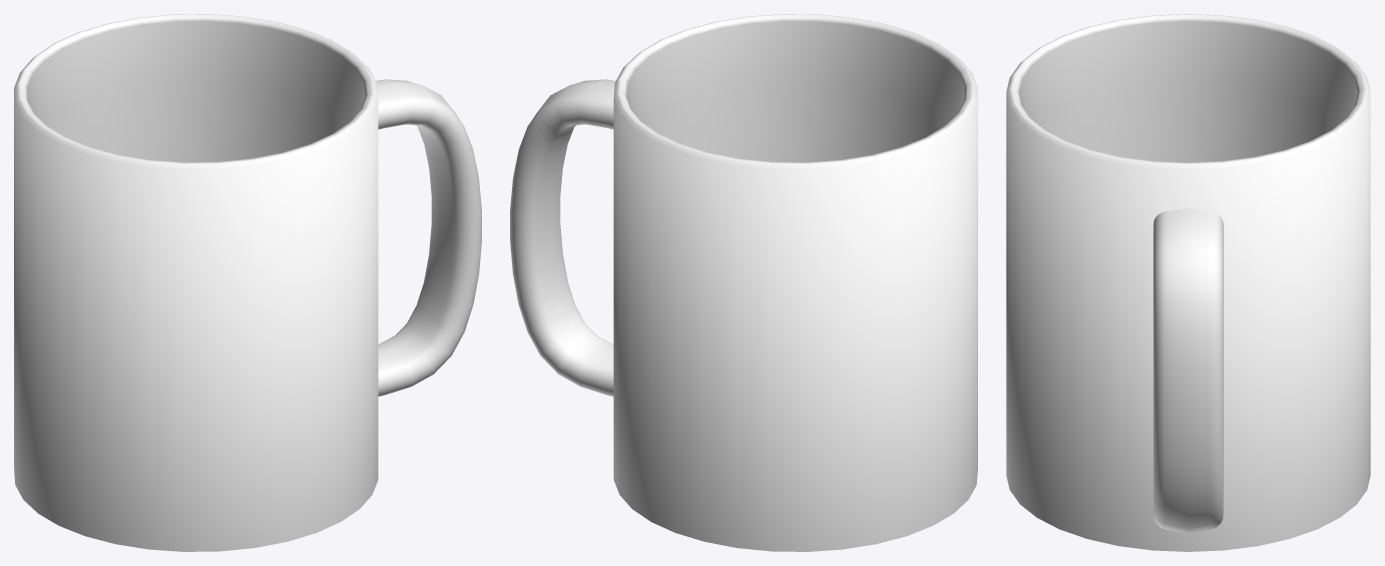
Rendered from Mug.fbx.
The picture shows the model from 3 angles, left to right: view 1: azimuth 30°, elevation 25°; view 2: azimuth 150°, elevation 25°; view 3: azimuth 270°, elevation 25°; orthographic projection.
Visible parts, largest first — view 1: Mug; view 2: Mug; view 3: Mug.
Part boxes in pixels (<box>): Mug: <box>14,14,481,551</box>; Mug: <box>510,14,977,551</box>; Mug: <box>1006,14,1370,551</box>.
Bounding box in the file's own units: 17.72 × 15.02 × 12.85.
1 material, 1 textured.
